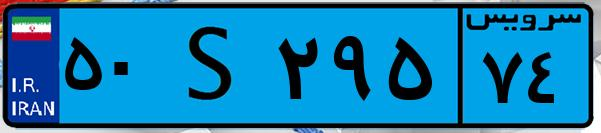0: (110, 28, 158, 98)
2: (270, 28, 330, 110)
4: (525, 38, 570, 115)
5: (385, 28, 445, 110), (57, 26, 110, 100)
7: (475, 38, 525, 113)
9: (330, 28, 385, 110)
S: (158, 12, 270, 120)
